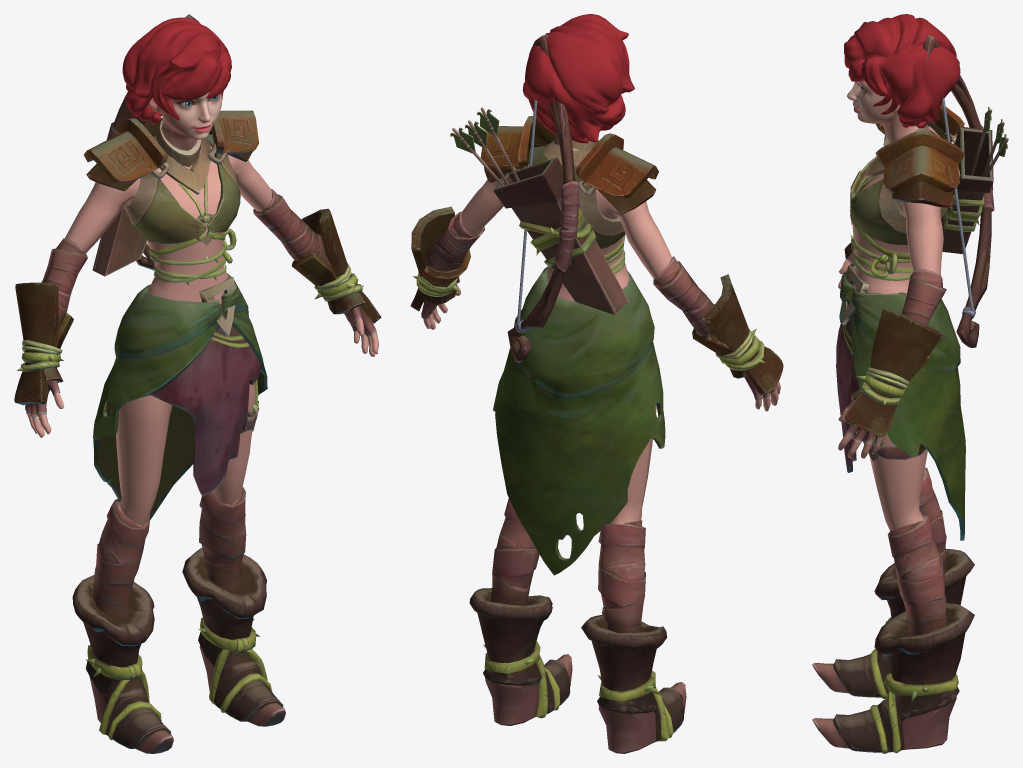
The picture shows the model from 3 angles, left to right: view 1: azimuth 30°, elevation 25°; view 2: azimuth 150°, elevation 25°; view 3: azimuth 270°, elevation 25°; orthographic projection.
Parts seen in each view (by area): view 1: Wolf3D_Outfit_Top, Wolf3D_Outfit_Footwear, Wolf3D_Outfit_Bottom, Wolf3D_Body, Wolf3D_Hair, Wolf3D_Head; view 2: Wolf3D_Outfit_Top, Wolf3D_Outfit_Bottom, Wolf3D_Outfit_Footwear, Wolf3D_Hair, Wolf3D_Body; view 3: Wolf3D_Outfit_Top, Wolf3D_Outfit_Footwear, Wolf3D_Outfit_Bottom, Wolf3D_Hair, Wolf3D_Body, Wolf3D_Head.
Part boxes in pixels (x1,y1,x2,y2): Wolf3D_Outfit_Top: (14, 14, 381, 416); Wolf3D_Outfit_Footwear: (72, 486, 285, 753); Wolf3D_Outfit_Bottom: (93, 273, 267, 520); Wolf3D_Body: (27, 144, 378, 525); Wolf3D_Hair: (122, 17, 231, 124); Wolf3D_Head: (148, 92, 221, 150); Wolf3D_Outfit_Top: (410, 34, 783, 400); Wolf3D_Outfit_Bottom: (493, 266, 665, 575); Wolf3D_Outfit_Footwear: (469, 498, 686, 753); Wolf3D_Hair: (523, 14, 634, 143); Wolf3D_Body: (423, 169, 780, 524); Wolf3D_Outfit_Top: (844, 35, 1008, 442); Wolf3D_Outfit_Footwear: (812, 467, 974, 753); Wolf3D_Outfit_Bottom: (836, 265, 965, 540); Wolf3D_Hair: (844, 14, 960, 128); Wolf3D_Body: (838, 126, 943, 530); Wolf3D_Head: (847, 81, 918, 142).
Bounding box in the file's own units: 0.9634 × 1.78 × 0.4583.
8 materials, 8 textured.
